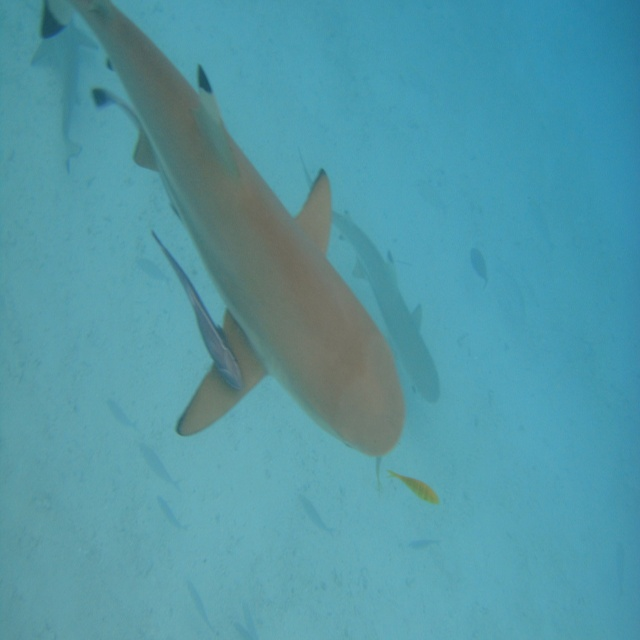Shark: (73, 0, 406, 453)
